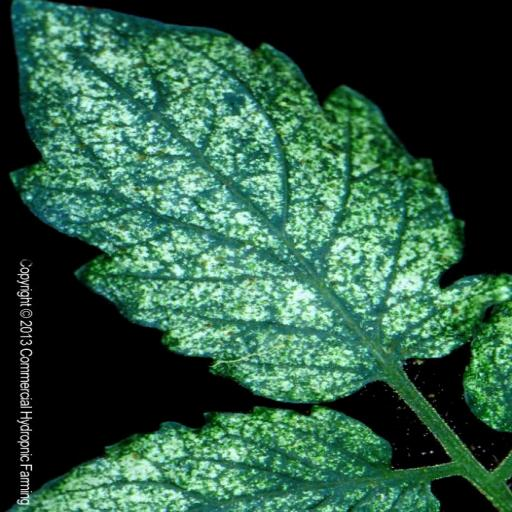disease_tomato: (0, 0, 512, 403), (1, 408, 443, 512)
